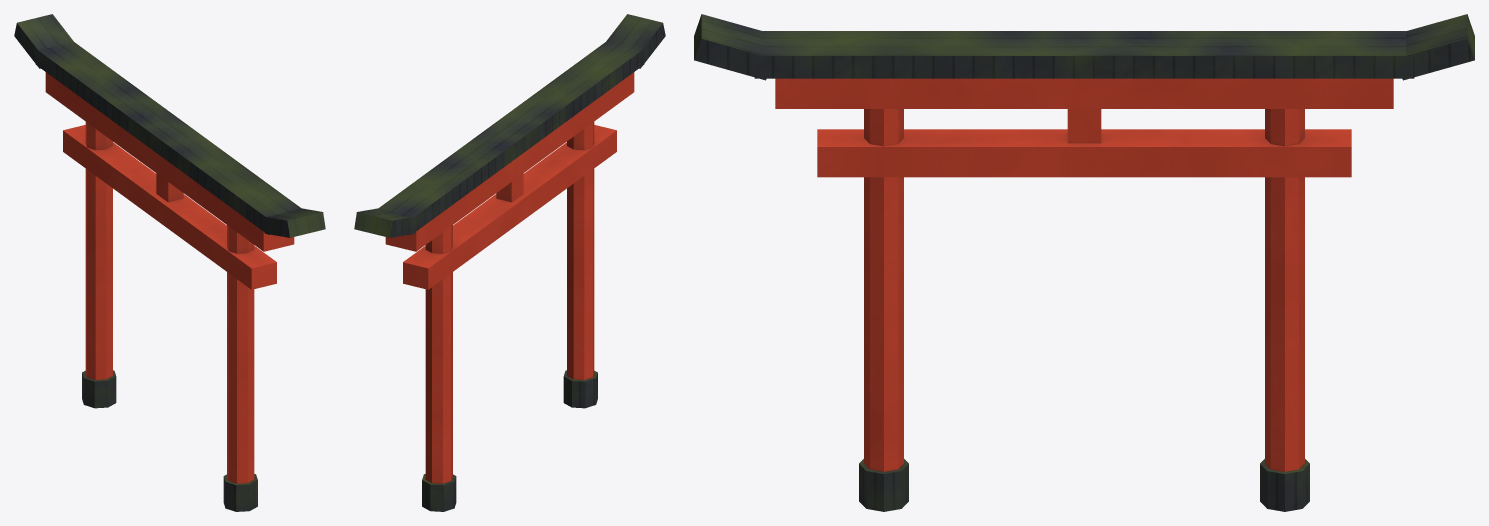
File: torii_tex.glb
3 renders of one model, left to right at view 1: azimuth 30°, elevation 25°; view 2: azimuth 150°, elevation 25°; view 3: azimuth 270°, elevation 25°, orthographic. The views are drawn at different scales.
Parts seen in each view (by area): view 1: torii; view 2: torii; view 3: torii.
Boxes of the visible parts, bbox=[...] form: torii: bbox=[14, 14, 325, 511]; torii: bbox=[354, 14, 665, 511]; torii: bbox=[694, 14, 1474, 511].
Bounding box in the file's own units: 0.7 × 6.28 × 9.35.
Materials: 2 (2 with a texture image).
